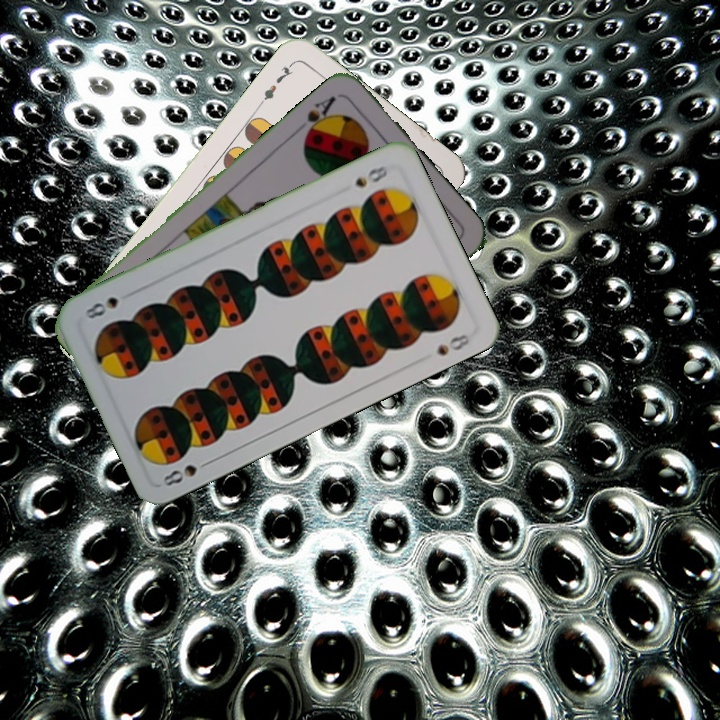E7: (255, 58, 297, 108)
S8: (159, 456, 215, 489), (350, 161, 390, 190)
SA: (300, 91, 339, 142)
